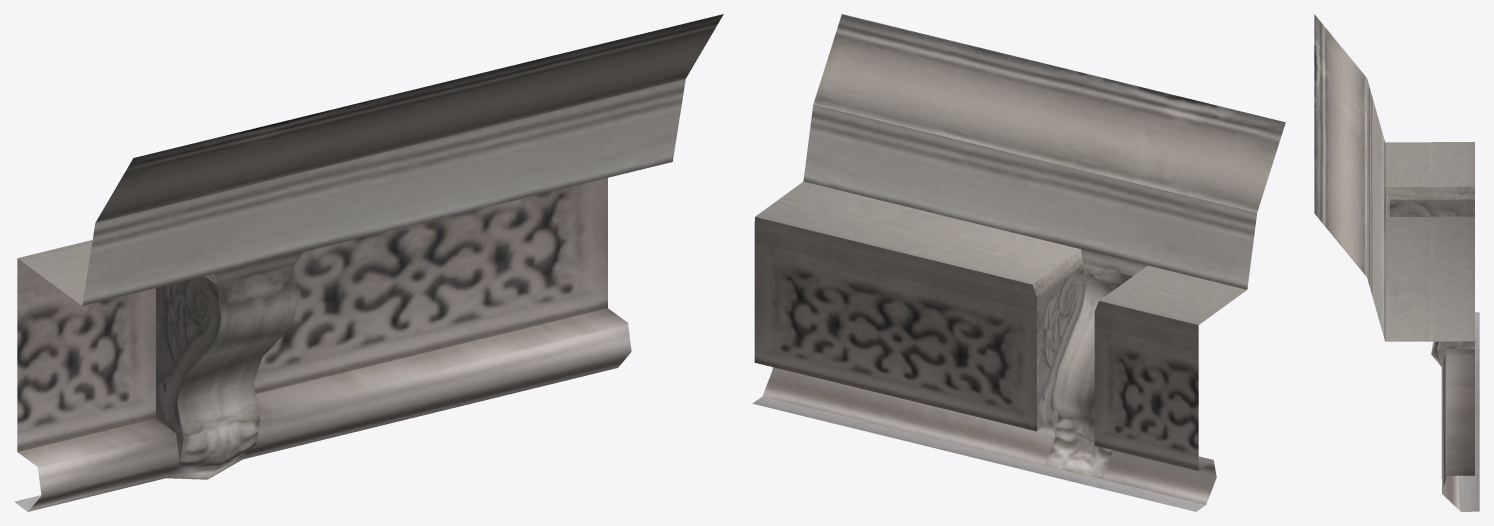
The model's file is WallRoofline05C.fbx.
3 views of the same model, side by side, from view 1: azimuth 30°, elevation 25°; view 2: azimuth 150°, elevation 25°; view 3: azimuth 270°, elevation 25° (orthographic). The views are drawn at different scales.
Visible parts, largest first — view 1: WallRoofline05C; view 2: WallRoofline05C; view 3: WallRoofline05C.
Boxes of the visible parts, x1,y1,x2,y2 form: WallRoofline05C: (14, 14, 723, 511); WallRoofline05C: (752, 14, 1285, 511); WallRoofline05C: (1314, 14, 1479, 511).
Bounding box in the file's own units: 100 × 71.18 × 35.
